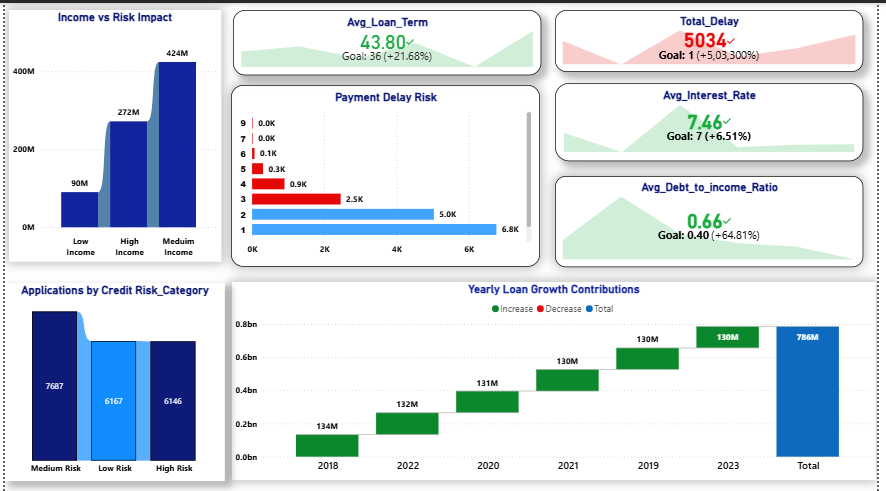

The dashboard page shown, as its layout file describes it:
{"tool":"powerbi","page":{"name":"Deep Dive Analysis","canvas":[1280,720],"ordinal":1},"visuals":[{"type":"waterfallChart","title":"Yearly Loan Growth Contributions","fields":{"Y":["Measure.Total_Loan_Amount"],"Category":["Date.Year"]},"box":[332.8,410.4,946.3,291],"z":0},{"type":"clusteredBarChart","title":"Payment Delay Risk ","fields":{"Category":["Loan_Data_Table.Payment_Delays_6mo"],"Y":["Measure.Total_Applications"]},"box":[332.6,120.9,453.5,267.1],"z":1000},{"type":"columnChart","title":"Income vs Risk Impact","fields":{"Y":["Measure.Total_Amount"],"Category":["Loan_Data_Table.Risk_Income_Group_Category"]},"box":[5.9,10.3,311.5,370.3],"z":2000},{"type":"columnChart","title":"Applications by Credit Risk_Category","fields":{"Category":["Loan_Data_Table.Risk_Category"],"Y":["Measure.Total_Applications"]},"box":[0,411.4,323.3,290.9],"z":3000},{"type":"kpi","title":"Avg_Interest_Rate","fields":{"Indicator":["Measure.Avg_Interest_Rate"],"TrendLine":["Date.Year"],"Goal":["Measure.Traget_Interest"]},"box":[808.2,117.6,452.6,114.6],"z":4000},{"type":"kpi","title":"Avg_Loan_Term","fields":{"TrendLine":["Date.Year"],"Indicator":["Measure.Avg_Loan_Term"],"Goal":["Measure.Target_Loan"]},"box":[335,10.3,452.6,95.5],"z":5000},{"type":"kpi","title":"Total_Delay ","fields":{"Indicator":["Measure.Total_Delay"],"Goal":["Measure.Traget_Delay"],"TrendLine":["Date.Year"]},"box":[808.2,10.3,452.6,91.1],"z":6000},{"type":"kpi","title":"Avg_Debt_to_income_Ratio ","fields":{"Indicator":["Measure.Avg_Debt_to_income_Ratio"],"TrendLine":["Date.Year"],"Goal":["Measure.Traget_dtiro"]},"box":[808.2,254.2,452.6,133.7],"z":7000}]}

Visuals, with their boxes in screenshot pixels (x1, y1, x2, y2), scaled from the page's 1280x720 canvas onto the 886x491 screenshot:
"Yearly Loan Growth Contributions" waterfallChart: 230 280 885 478
"Payment Delay Risk " clusteredBarChart: 230 82 544 265
"Income vs Risk Impact" columnChart: 4 7 220 260
"Applications by Credit Risk_Category" columnChart: 0 281 224 479
"Avg_Interest_Rate" kpi: 559 80 873 158
"Avg_Loan_Term" kpi: 232 7 545 72
"Total_Delay " kpi: 559 7 873 69
"Avg_Debt_to_income_Ratio " kpi: 559 173 873 265
